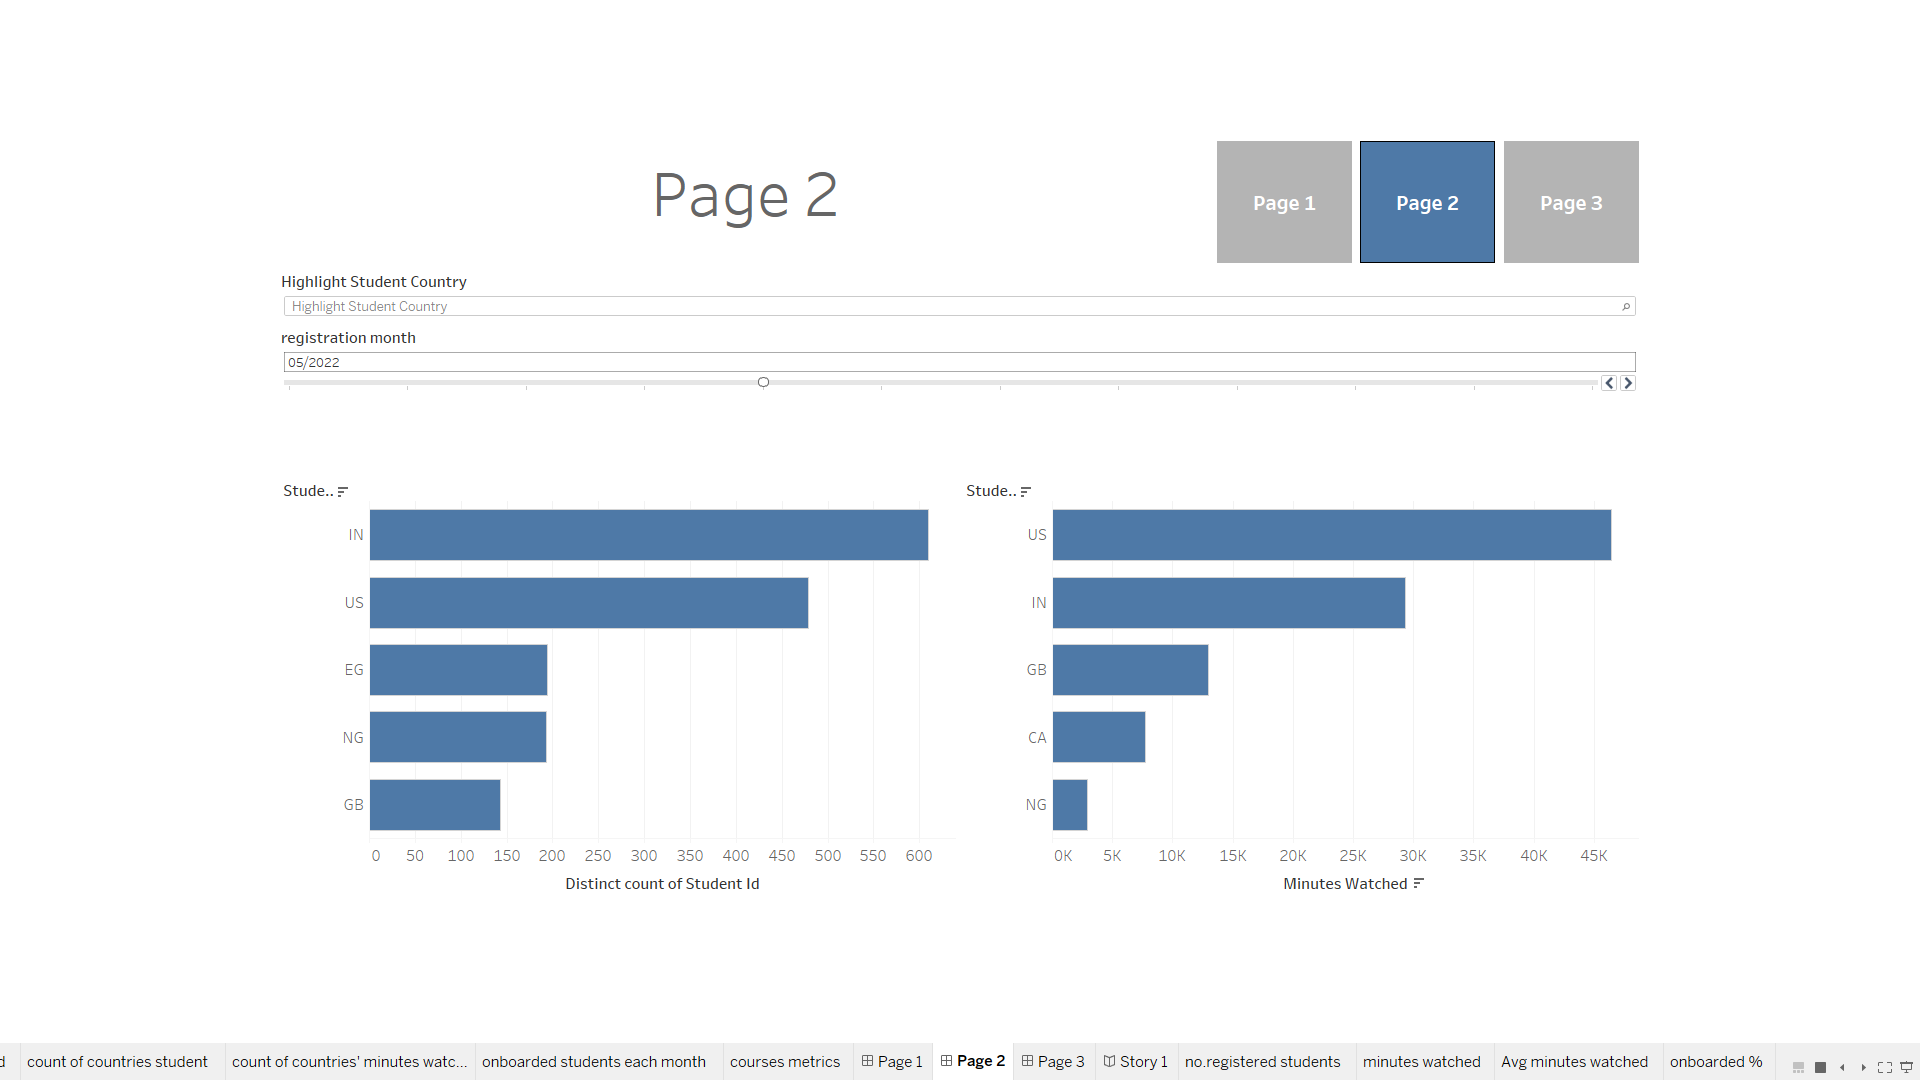

Layout of this report page (visuals, bound fields, positions):
{"tool":"tableau","page":{"name":"Page 2","canvas":[1366,768],"ordinal":1},"visuals":[{"type":"text","box":[0,0,936,130]},{"type":"dashboard-object","box":[936,0,143.3,130]},{"type":"dashboard-object","box":[1079.3,0,143.3,130]},{"type":"dashboard-object","box":[1222.7,0,143.3,130]},{"type":"highlighter","title":"count of countries student","param":"[federated.0qudcsv05uts8n14vjasq0xkklva].[none:student_country:nk]","box":[0,130,1366,56]},{"type":"parameter","param":"[Parameters].[Parameter 2]","box":[0,186,1366,79]},{"type":"worksheet","title":"count of countries student","mark":"Bar","rows":["student_country"],"cols":["student_id"],"box":[0,325,683,443]},{"type":"worksheet","title":"count of countries' minutes watched","mark":"Bar","rows":["student_country"],"cols":["minutes_watched"],"box":[683,325,683,443]}]}

Visuals, with their boxes on the page's 1366x768 design canvas (x1, y1, x2, y2). These are canvas units, not pixel positions in the 1920x1080 screenshot, which may show the page scaled, cropped or inside an application window:
text: crop(0, 0, 936, 130)
dashboard-object: crop(936, 0, 1079, 130)
dashboard-object: crop(1079, 0, 1223, 130)
dashboard-object: crop(1223, 0, 1366, 130)
"count of countries student" highlighter: crop(0, 130, 1366, 186)
parameter: crop(0, 186, 1366, 265)
"count of countries student" worksheet (Bar marks): crop(0, 325, 683, 768)
"count of countries' minutes watched" worksheet (Bar marks): crop(683, 325, 1366, 768)
